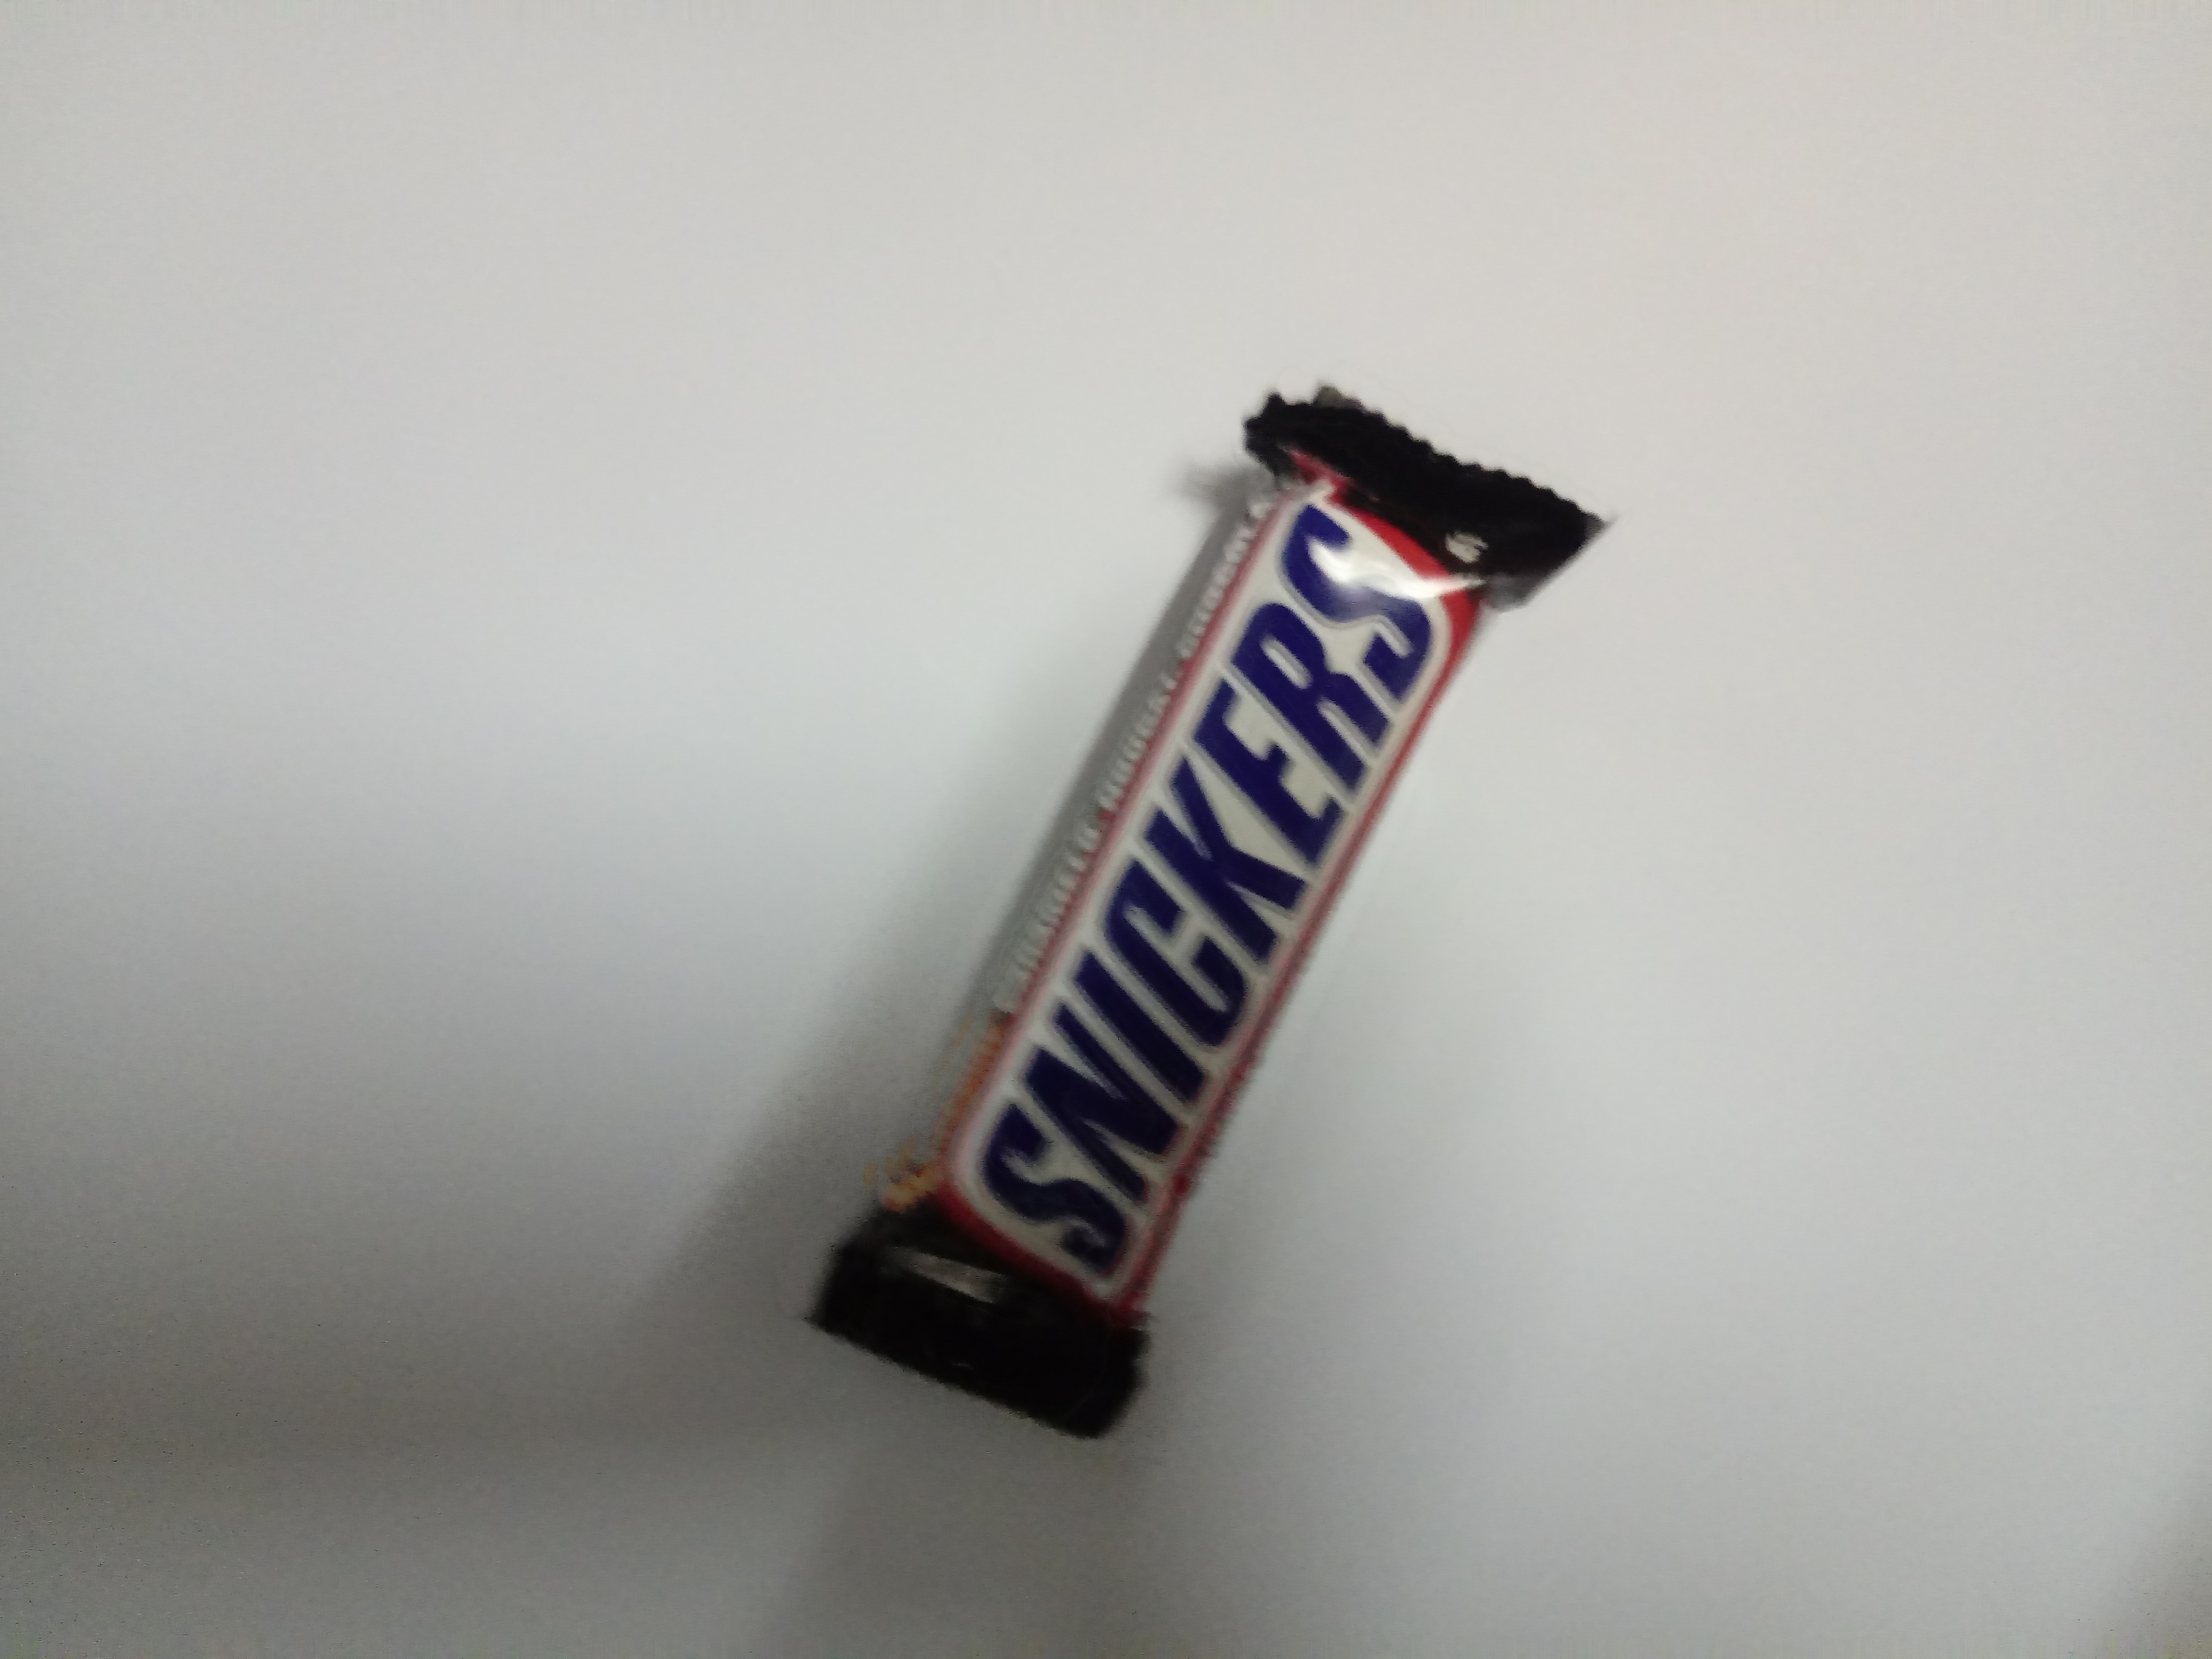snickers: (786, 378, 1623, 1448)
